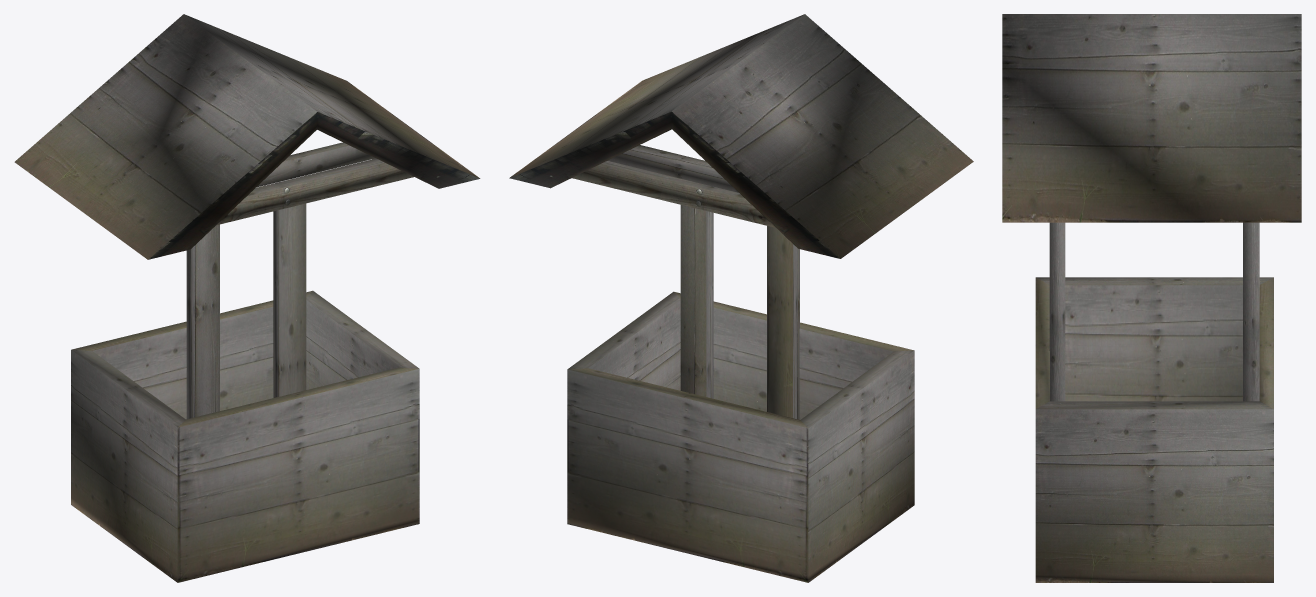
Rendered from well.fbx.
3 views of the same model, side by side, from view 1: azimuth 30°, elevation 25°; view 2: azimuth 150°, elevation 25°; view 3: azimuth 270°, elevation 25° (orthographic). The views are drawn at different scales.
Parts seen in each view (by area): view 1: U3DMesh; view 2: U3DMesh; view 3: U3DMesh.
Part boxes in pixels (box(x1,y1,x2,y2)): U3DMesh: box(14, 14, 480, 582); U3DMesh: box(509, 14, 973, 582); U3DMesh: box(1002, 14, 1301, 582).
Bounding box in the file's own units: 4.21 × 5.46 × 2.93.
Materials: 1 (1 with a texture image).
